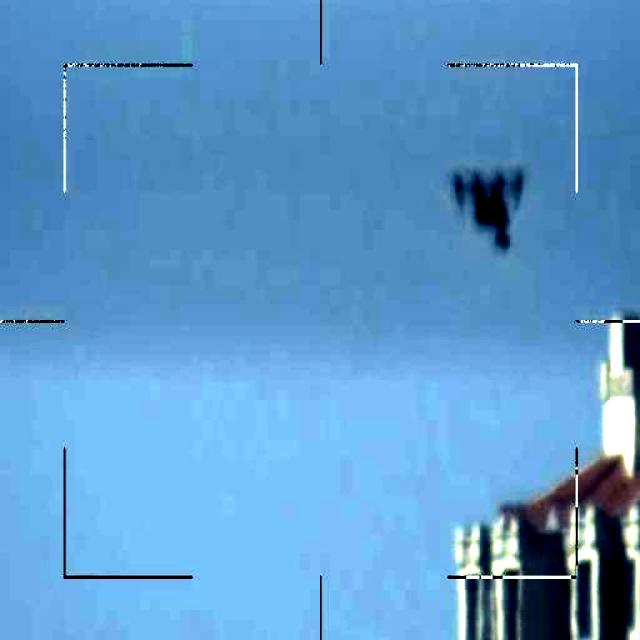bird: (451, 160, 532, 250)
